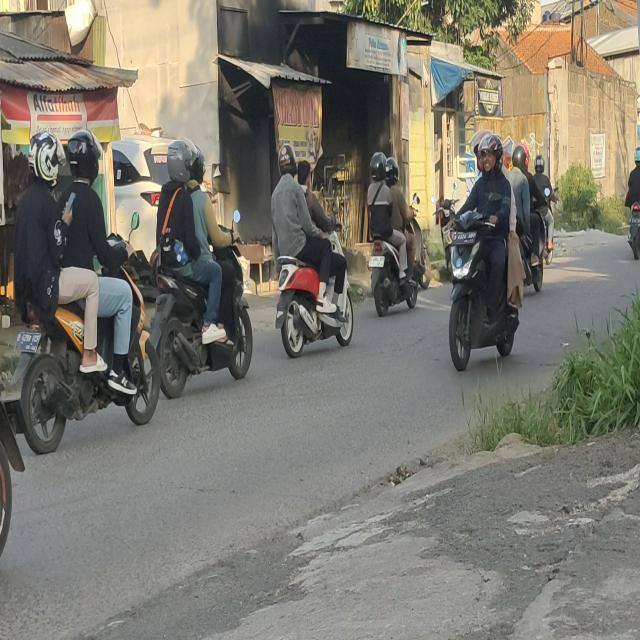helmet: (69, 131, 102, 182), (29, 133, 60, 183), (166, 141, 192, 184), (483, 135, 503, 175), (474, 132, 493, 170), (278, 143, 296, 180), (192, 144, 207, 182), (371, 150, 386, 182), (386, 158, 399, 186), (513, 146, 526, 173), (520, 143, 530, 167), (535, 155, 546, 174), (633, 146, 640, 162)
no-helmet: (278, 144, 295, 177), (298, 160, 311, 192)
